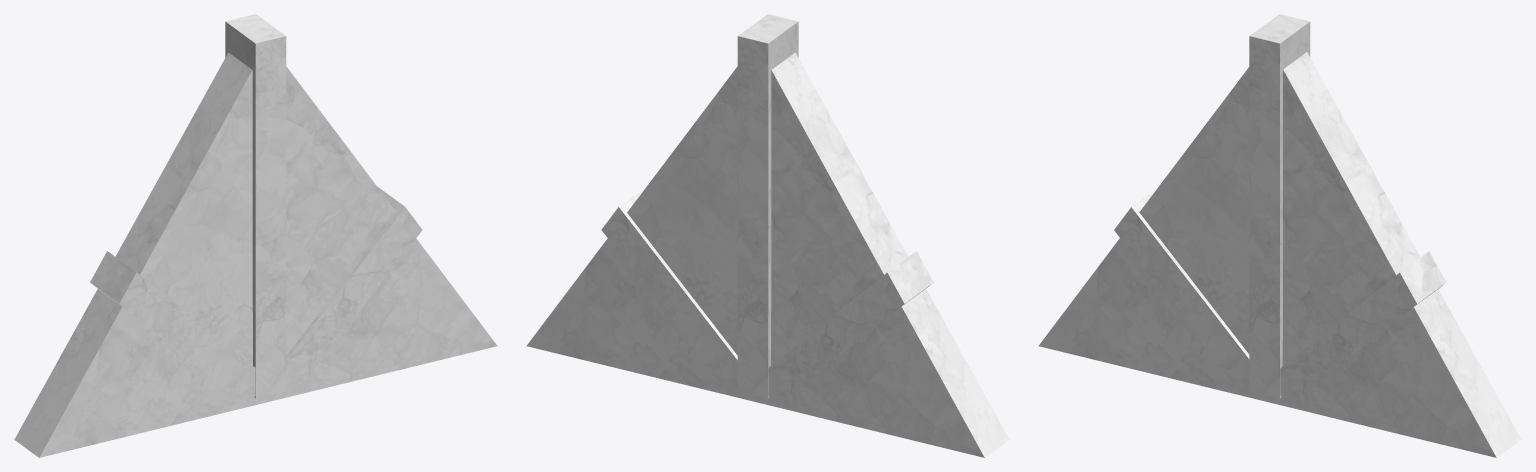
File: ARC0110014.fbx
3 views of the same model, side by side, from view 1: azimuth 30°, elevation 25°; view 2: azimuth 150°, elevation 25°; view 3: azimuth 330°, elevation 25° (orthographic).
Parts seen in each view (by area): view 1: smARC0110014; view 2: smARC0110014; view 3: smARC0110014.
Boxes of the visible parts, x1,y1,x2,y2 form: smARC0110014: [14, 14, 497, 457]; smARC0110014: [526, 14, 1009, 457]; smARC0110014: [1038, 14, 1521, 457].
Size of what is drawn, in the model's own units: 447 by 339 by 50.95.
1 material, 1 textured.
